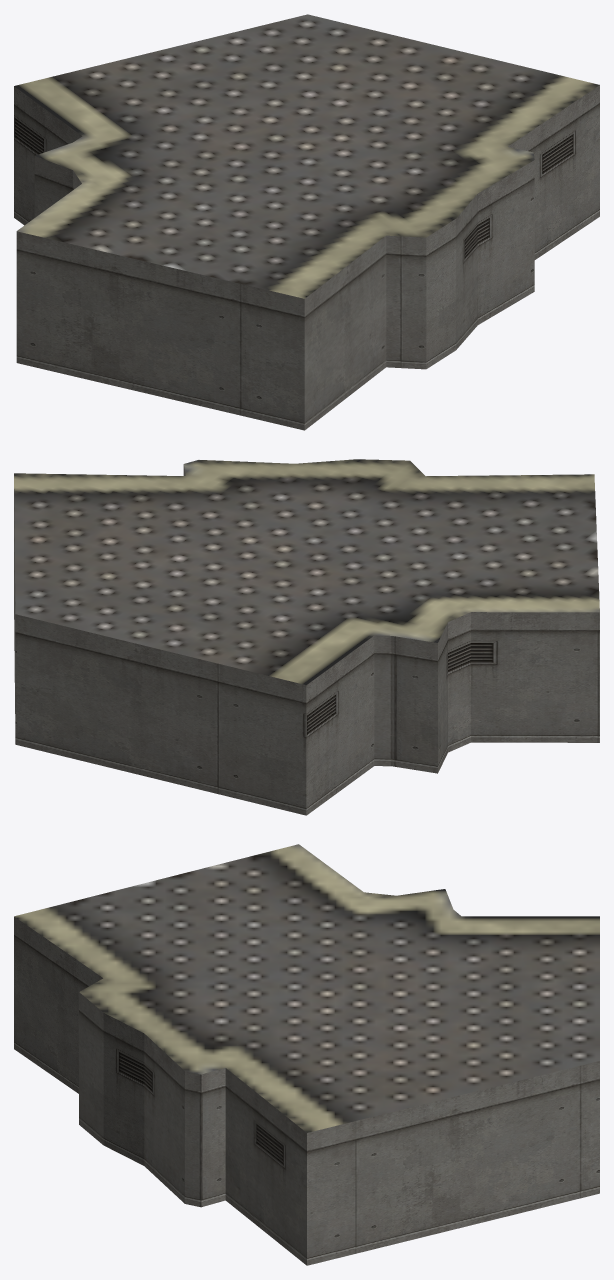
File: building_medium_a_19.glb
The picture shows the model from 3 angles, top to bottom: view 1: azimuth 30°, elevation 25°; view 2: azimuth 150°, elevation 25°; view 3: azimuth 270°, elevation 25°; orthographic projection.
Visible parts, largest first — view 1: buildings/saxarba/building_medium/building_medium_a_19; view 2: buildings/saxarba/building_medium/building_medium_a_19; view 3: buildings/saxarba/building_medium/building_medium_a_19.
Part boxes in pixels (<box>): buildings/saxarba/building_medium/building_medium_a_19: <box>14,14,599,430</box>; buildings/saxarba/building_medium/building_medium_a_19: <box>14,459,599,815</box>; buildings/saxarba/building_medium/building_medium_a_19: <box>14,844,599,1265</box>.
Size of the model in its own units: 84 by 18 by 72.
